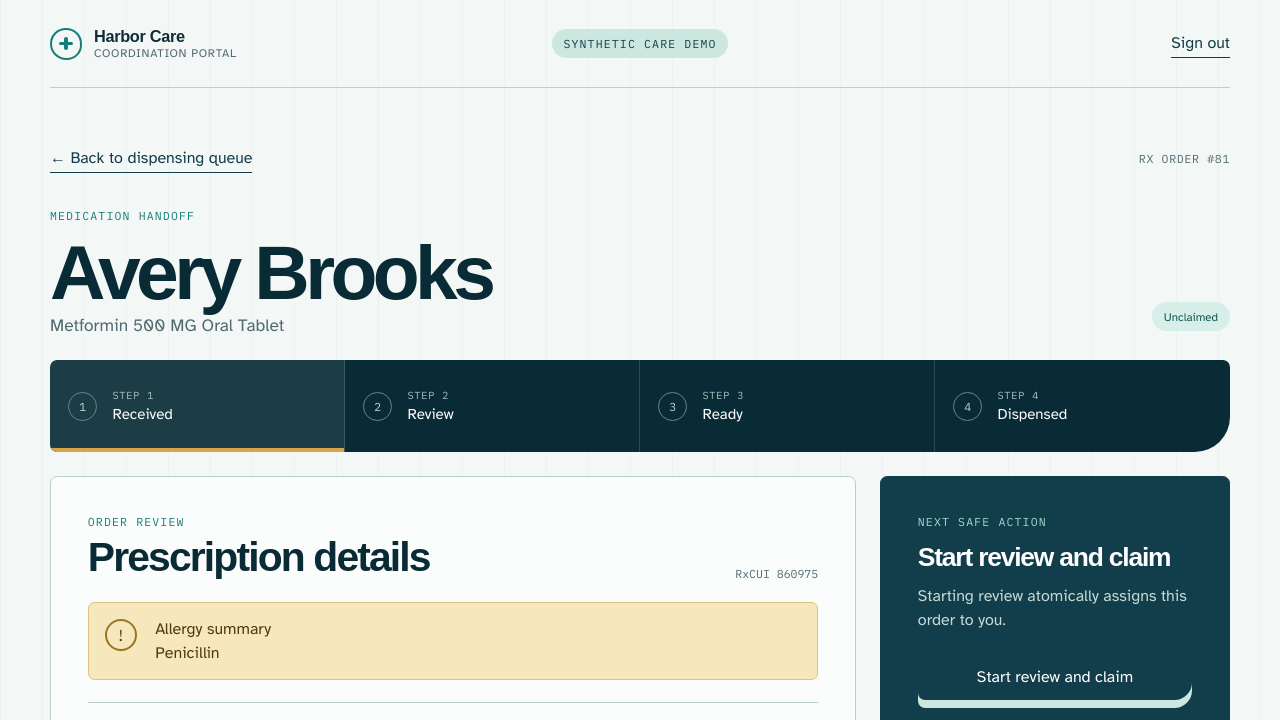
Scenario: App › guides a pharmacist through claim, ready, and confirmed dispensing
Expected: the heading "Avery Brooks" is shown, [50,236,491,309]
Expected: the text "Penicillin" is shown, [155,643,220,663]
Click the button "Start review and claim".
click(1055, 677)  # box [918,654,1192,700]
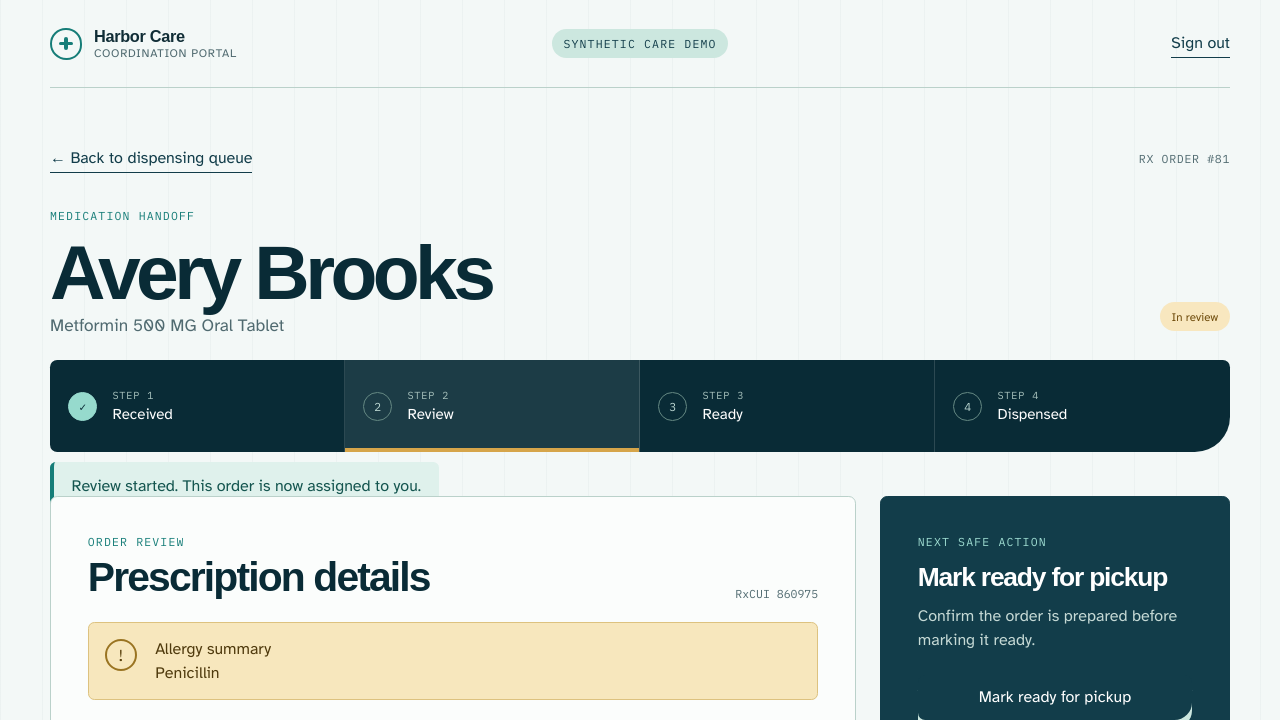
Expected: the text "Review started. This order is now assigned to you." is shown, [50,462,439,511]
Click the button "Mark ready for pickup".
click(1055, 697)  # box [918,674,1192,719]
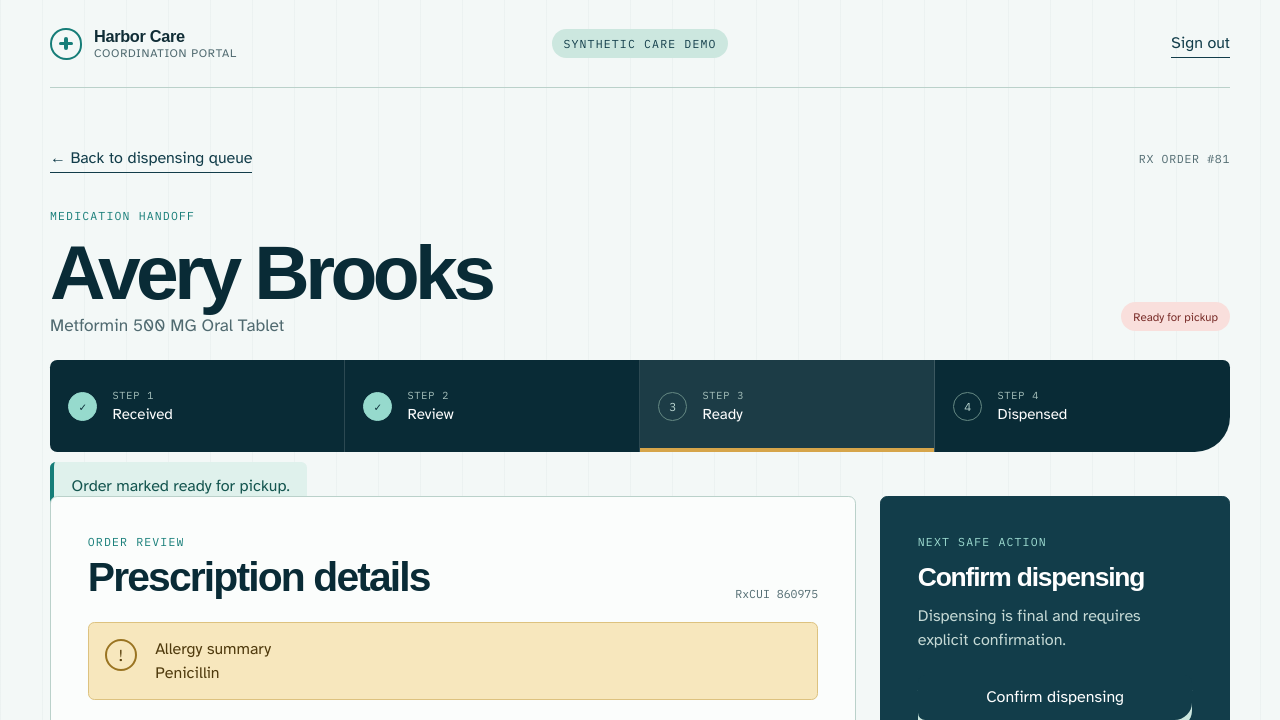
Expected: the text "Order marked ready for pickup." is shown, [50,462,307,511]
Click the button "Confirm dispensing".
click(1055, 697)  # box [918,674,1192,719]
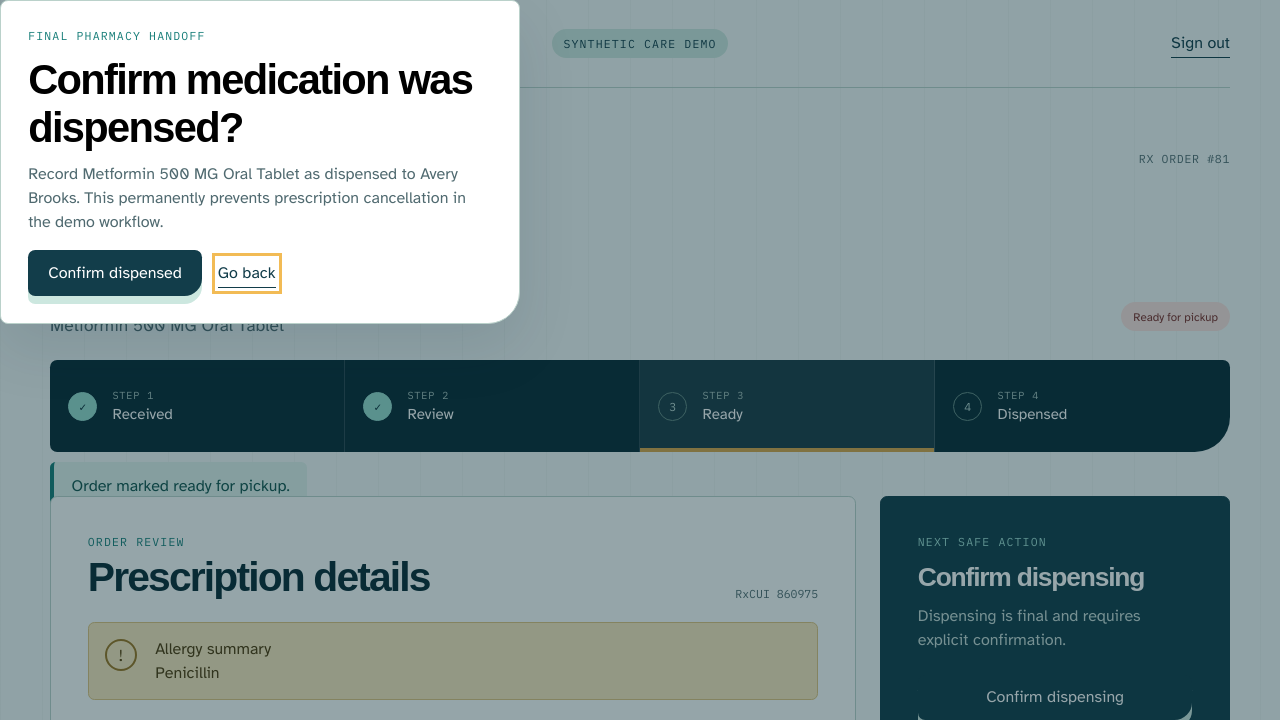
Click the button "Go back".
click(247, 273)  # box [218,259,276,288]
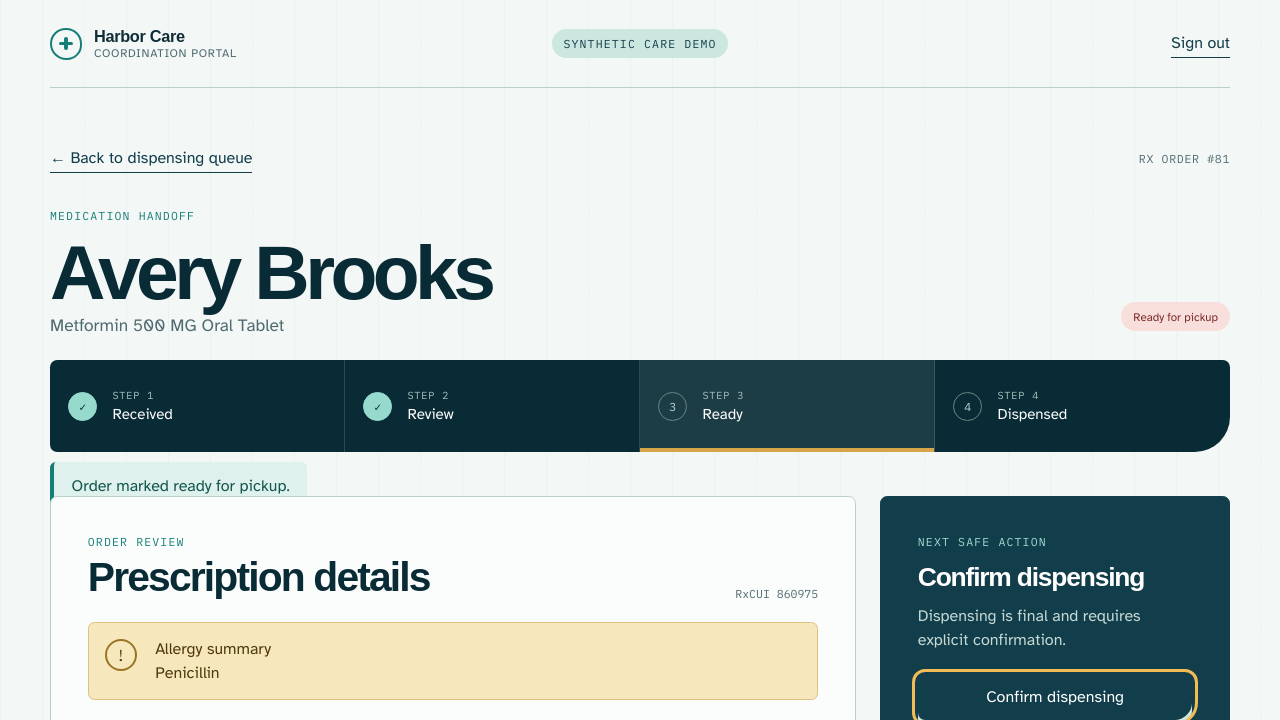
Click the button "Confirm dispensing".
click(1055, 697)  # box [918,674,1192,719]
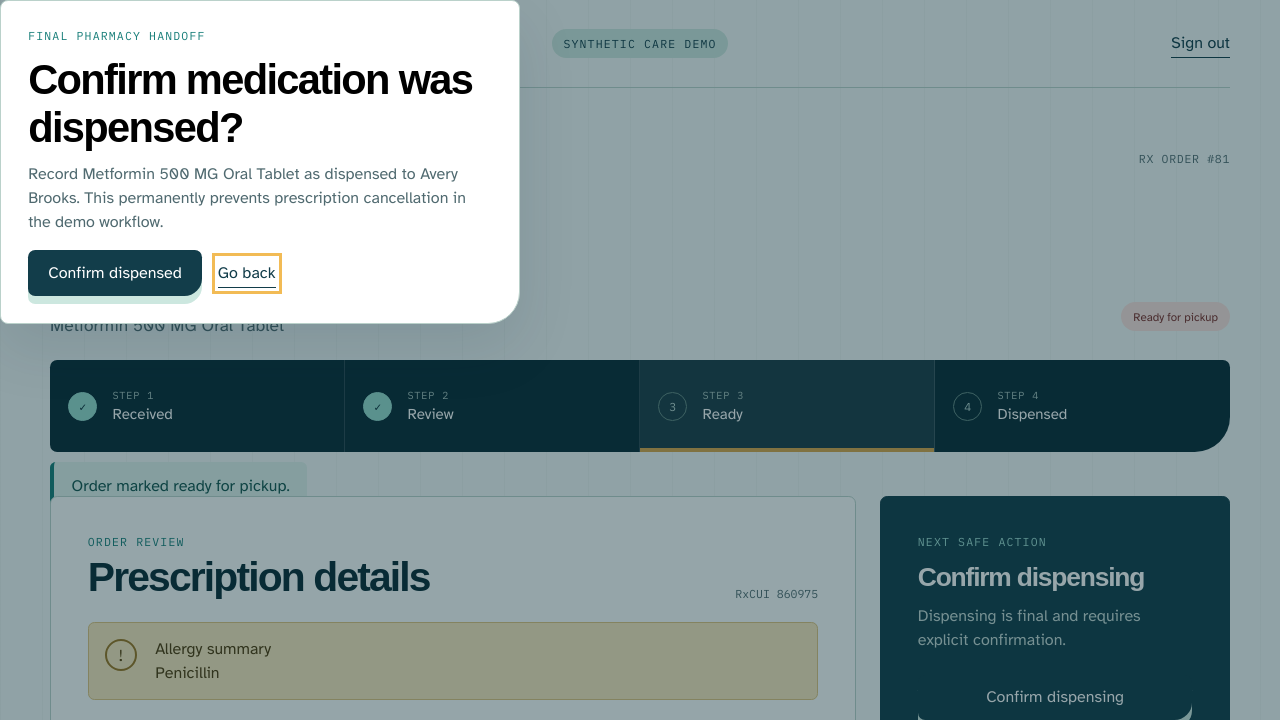
Click the button "Confirm dispensed".
click(115, 273)  # box [28,250,202,296]
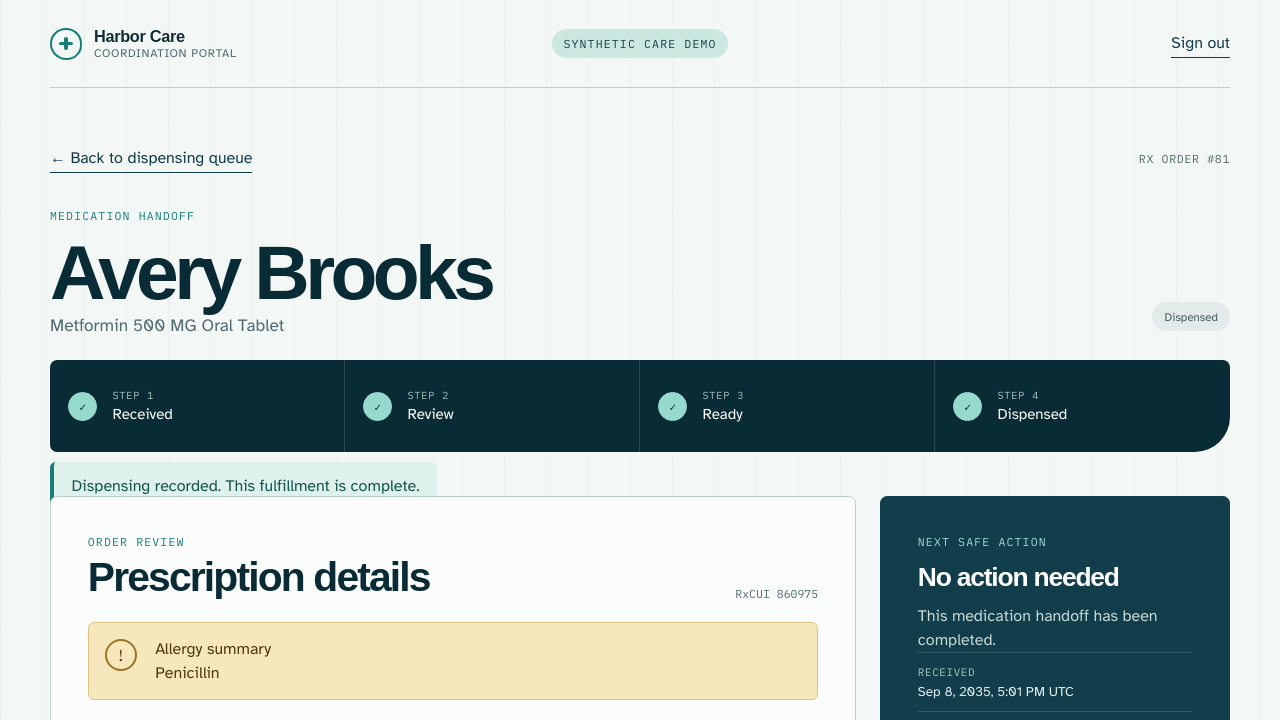
Expected: the text "Dispensing recorded. This fulfillment is complete." is shown, [50,462,437,511]
Expected: the heading "No action needed" is shown, [918,562,1119,592]
